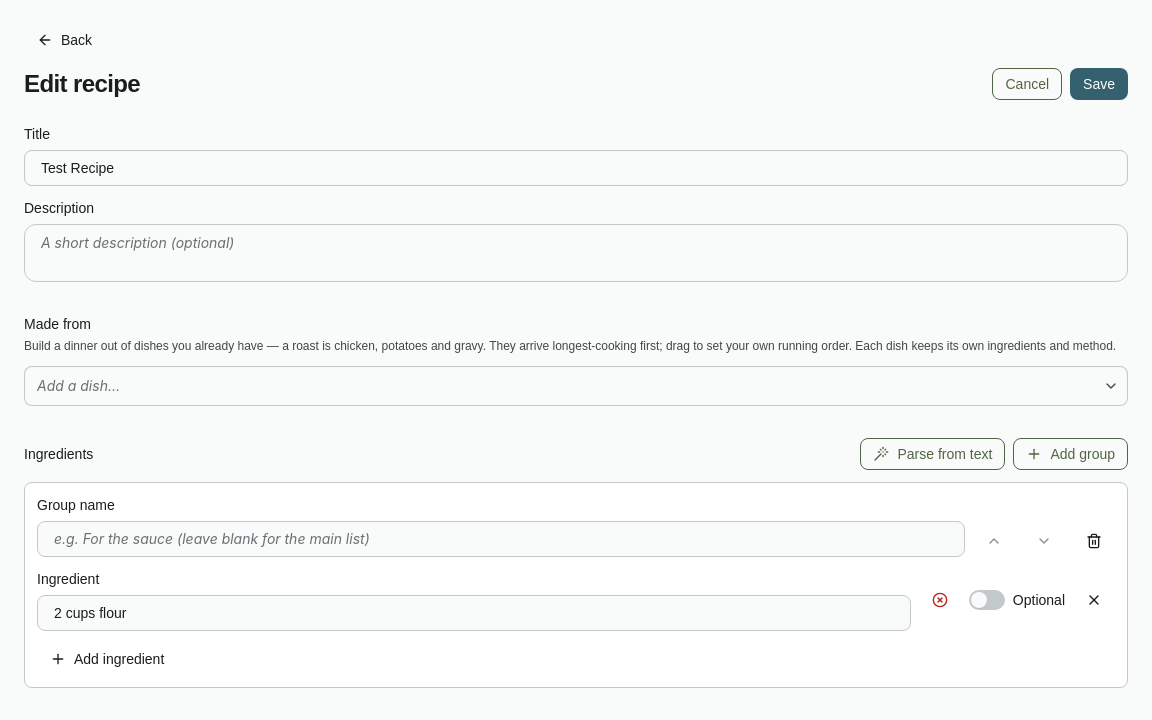
Test case: RecipeEditPage — per-row Match button › clears the unmatched indicator after clicking it on a pending ingredient
The width and height of the screenshot is (1152, 720).
Step 1. Click the button with test id "recipe-ingredient-match-btn" → (940, 600), box [919,584,961,616]
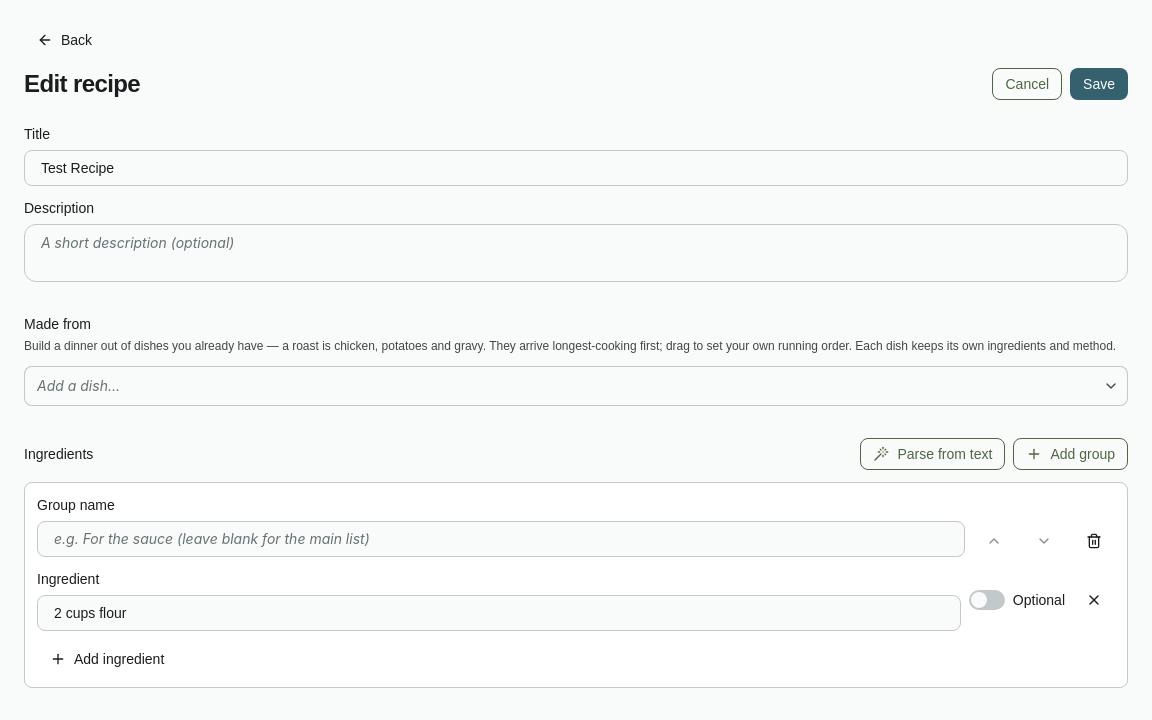
Now the button with test id "recipe-ingredient-match-btn" is gone
